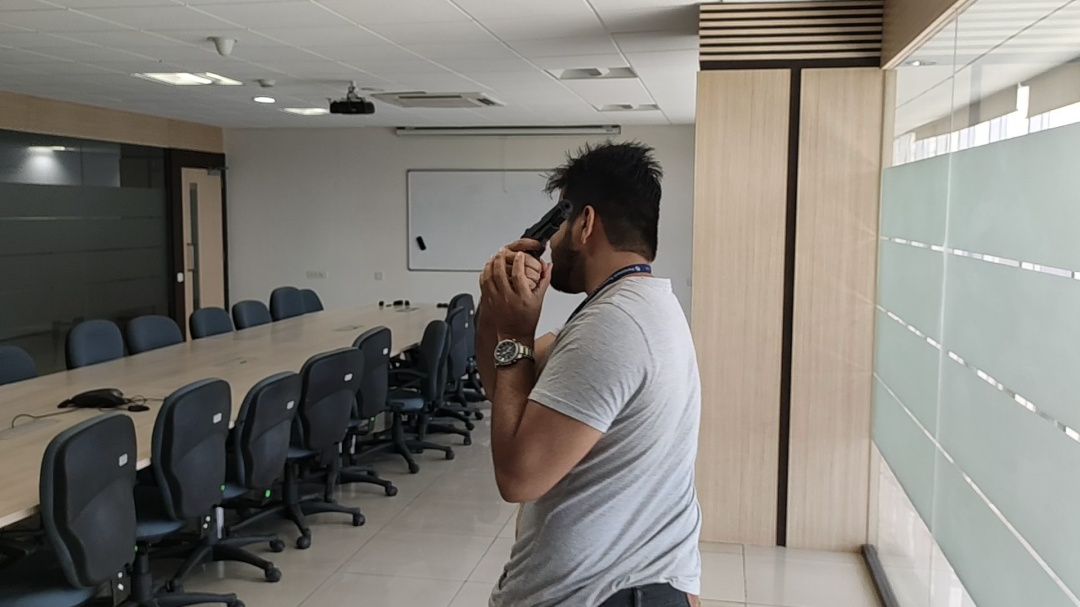gun: (520, 199, 573, 255)
